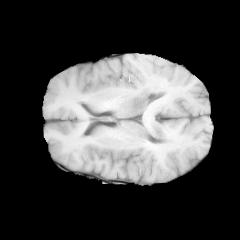glioma: (130, 83, 165, 140)
